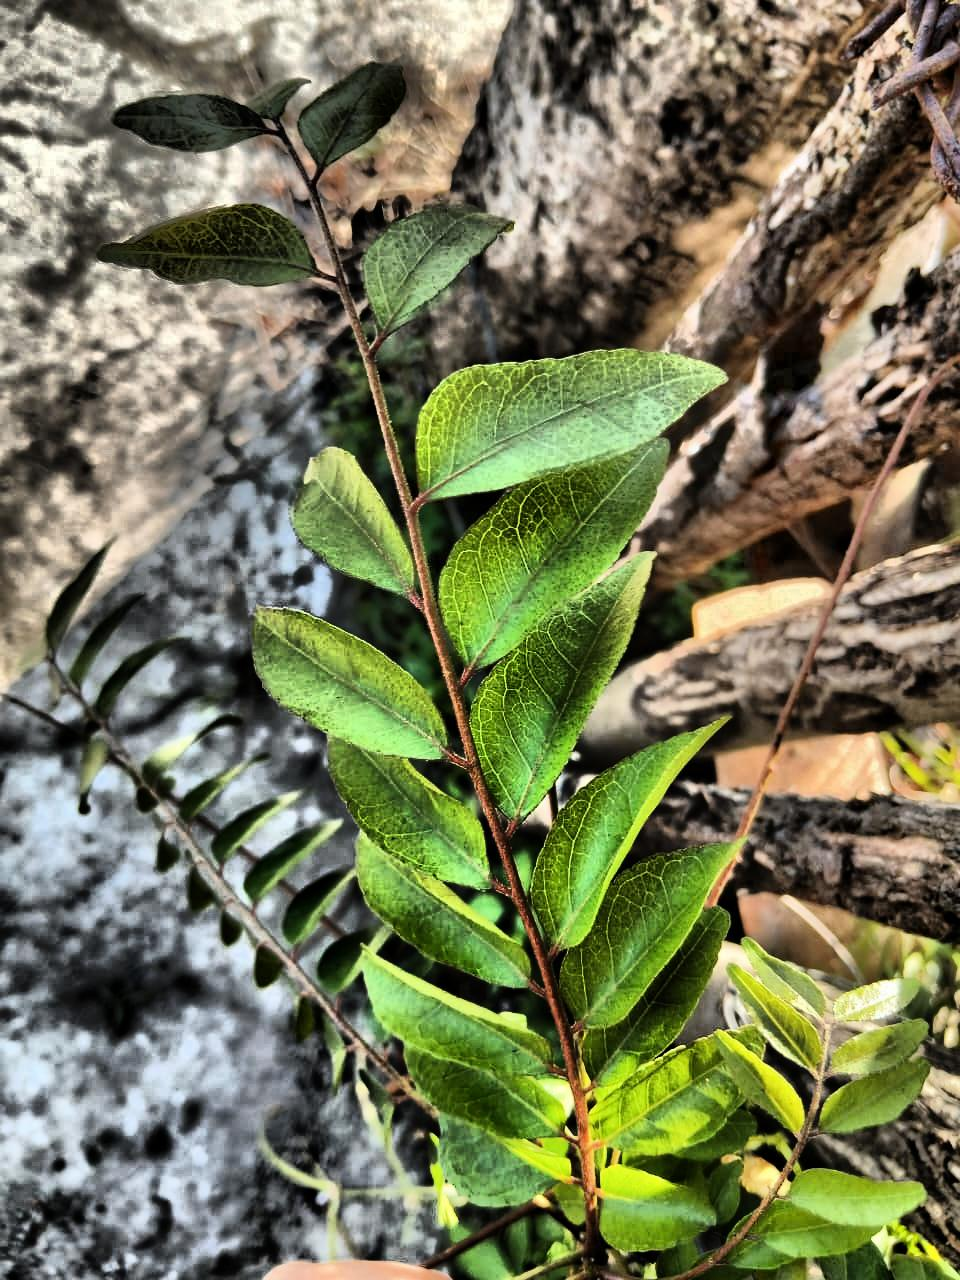daun kari: (98, 63, 886, 1279)
